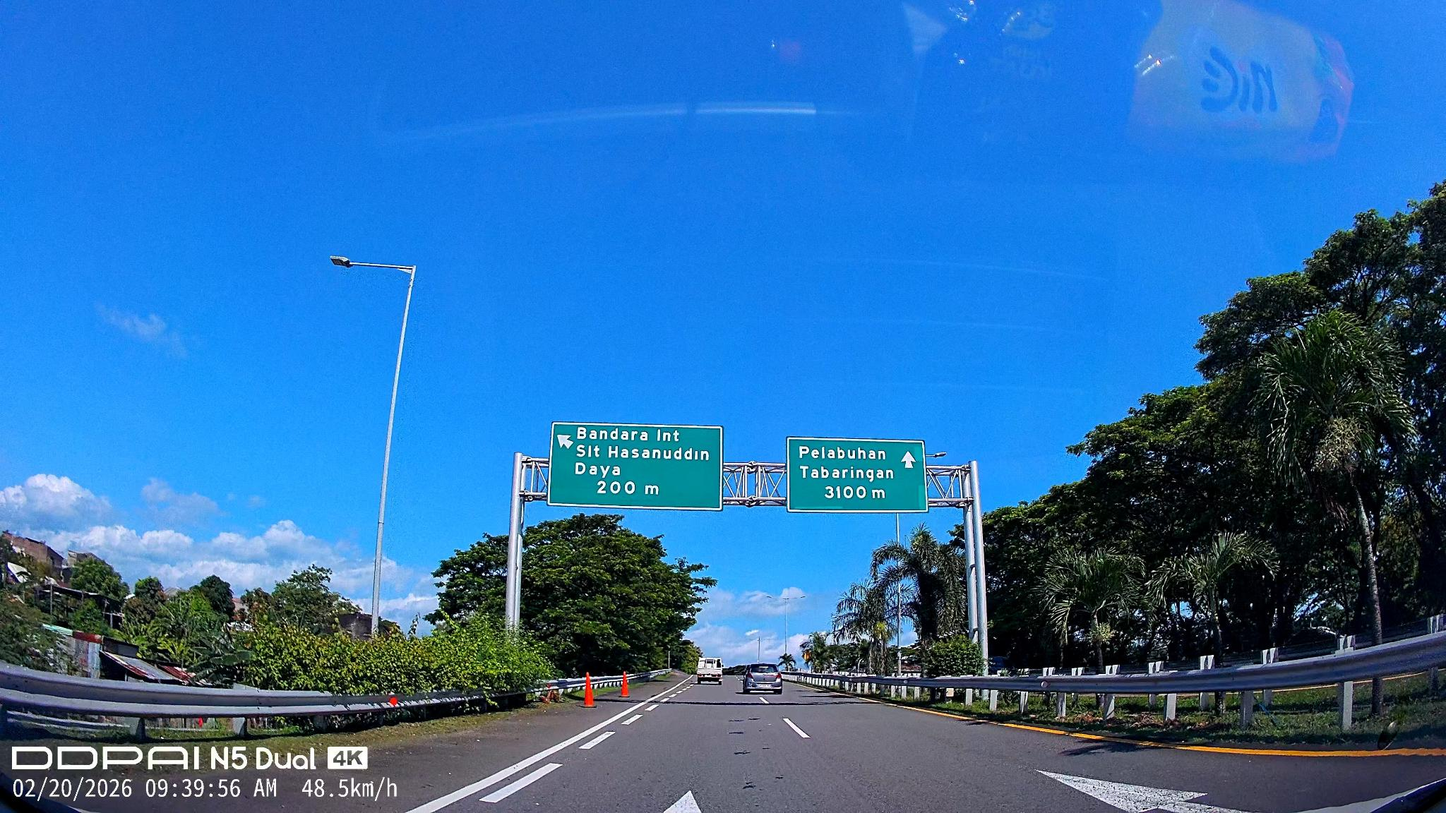rambu_teks: (547, 420, 724, 513), (786, 435, 930, 514)
